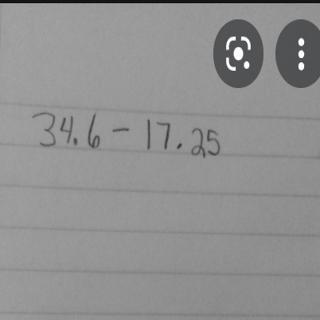.: (70, 134, 81, 145), (176, 140, 185, 150)
1: (147, 119, 152, 149)
2: (190, 125, 207, 155)
3: (32, 110, 58, 146)
4: (60, 114, 75, 142)
5: (205, 129, 222, 158)
6: (87, 112, 103, 149)
7: (159, 119, 172, 149)
